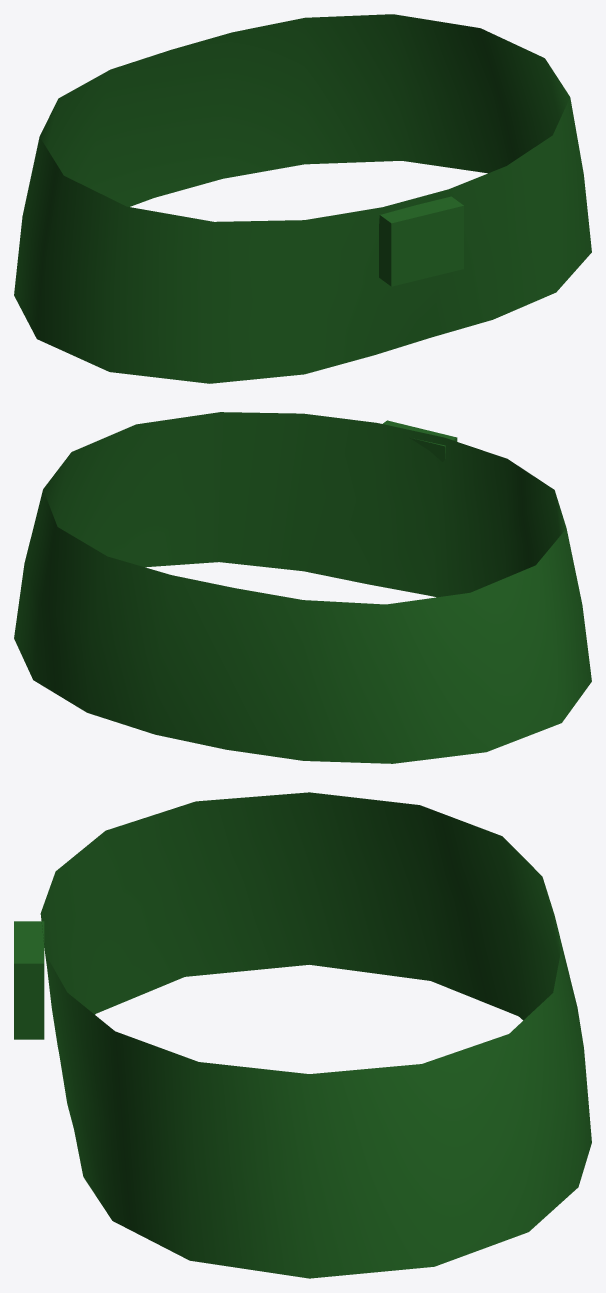
File: chlorophyte_armor_belt.glb
3 views of the same model, one above another, from view 1: azimuth 30°, elevation 25°; view 2: azimuth 150°, elevation 25°; view 3: azimuth 270°, elevation 25° (orthographic). The views are drawn at different scales.
Parts seen in each view (by area): view 1: chlorophyte_armor_belt; view 2: chlorophyte_armor_belt; view 3: chlorophyte_armor_belt.
Boxes of the visible parts, x1,y1,x2,y2 form: chlorophyte_armor_belt: (14, 14, 591, 383); chlorophyte_armor_belt: (14, 412, 591, 763); chlorophyte_armor_belt: (14, 792, 591, 1278).
Bounding box in the file's own units: 0.4427 × 0.1238 × 0.3446.
